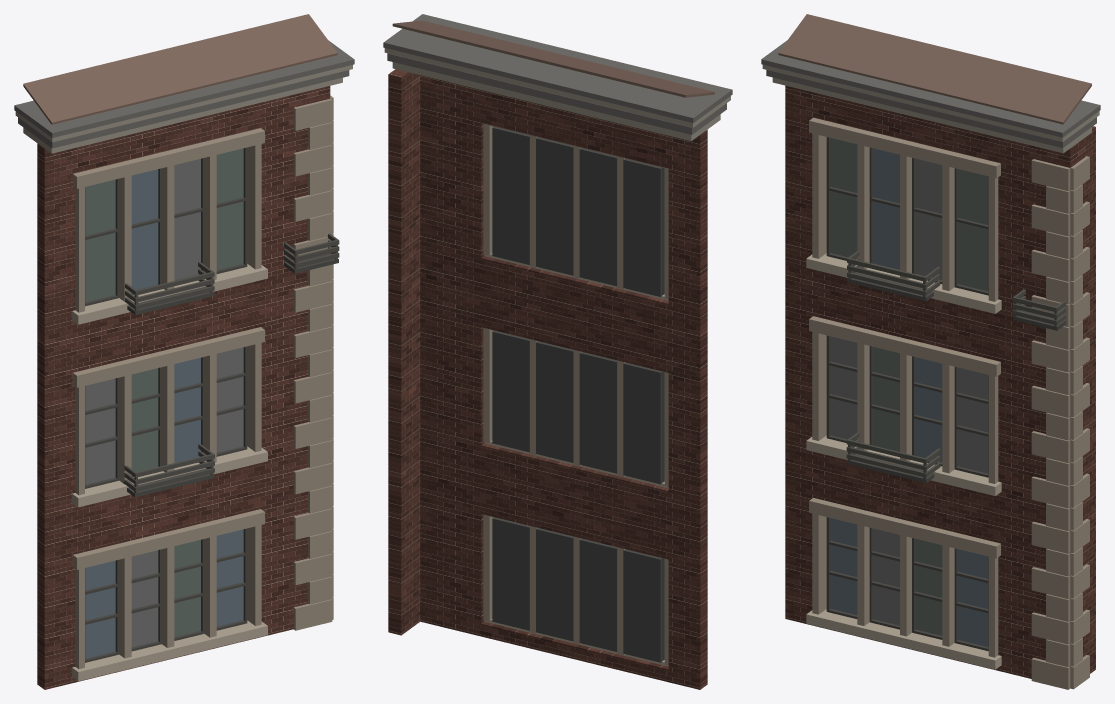
Rendered from huangpu-cathay-apartments-east-window-bay-lod.glb.
3 renders of one model, left to right at view 1: azimuth 30°, elevation 25°; view 2: azimuth 150°, elevation 25°; view 3: azimuth 330°, elevation 25°, orthographic. The views are drawn at different scales.
Visible parts, largest first — view 1: 国泰公寓南楼东端临街窗组与砖檐; view 2: 国泰公寓南楼东端临街窗组与砖檐; view 3: 国泰公寓南楼东端临街窗组与砖檐.
Boxes of the visible parts, x1=… form: 国泰公寓南楼东端临街窗组与砖檐: x1=14, y1=14, x2=354, y2=689; 国泰公寓南楼东端临街窗组与砖檐: x1=383, y1=14, x2=732, y2=689; 国泰公寓南楼东端临街窗组与砖檐: x1=761, y1=14, x2=1100, y2=689.
Size of the model in its own units: 5.82 by 10.87 by 1.39.
13 materials, 1 textured.
